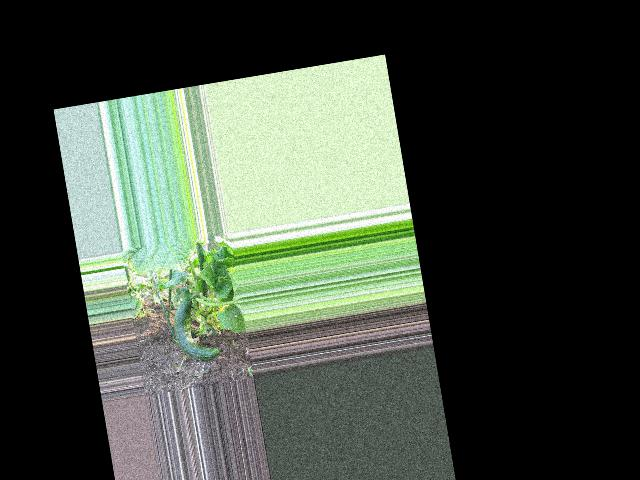cucumber: (169, 293, 220, 364)
